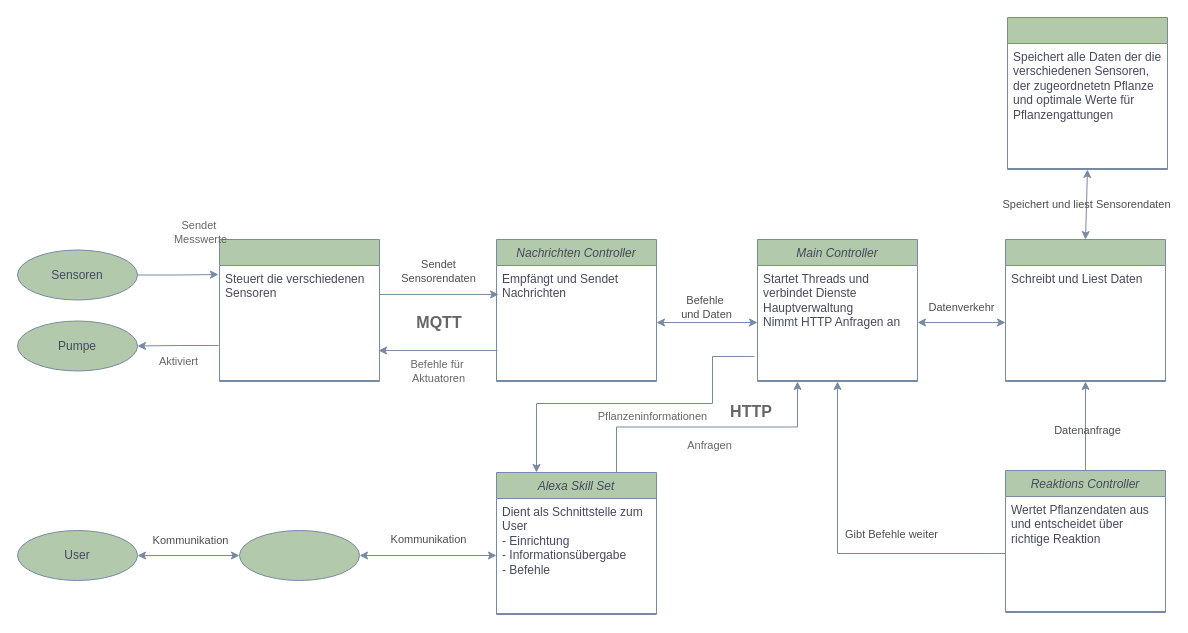
Some shapes in this 1188 by 633 pixel diagram are drawn without their labels. The shapes that lost their labels are listed below. From the top down, each one's box as (x1, y1, x2, y2) in pixels, then its label:
(1006, 16, 1168, 170): Influx
(218, 238, 380, 382): Arduino
(1004, 238, 1166, 382): Daten Controller
(238, 530, 360, 580): Alexa
